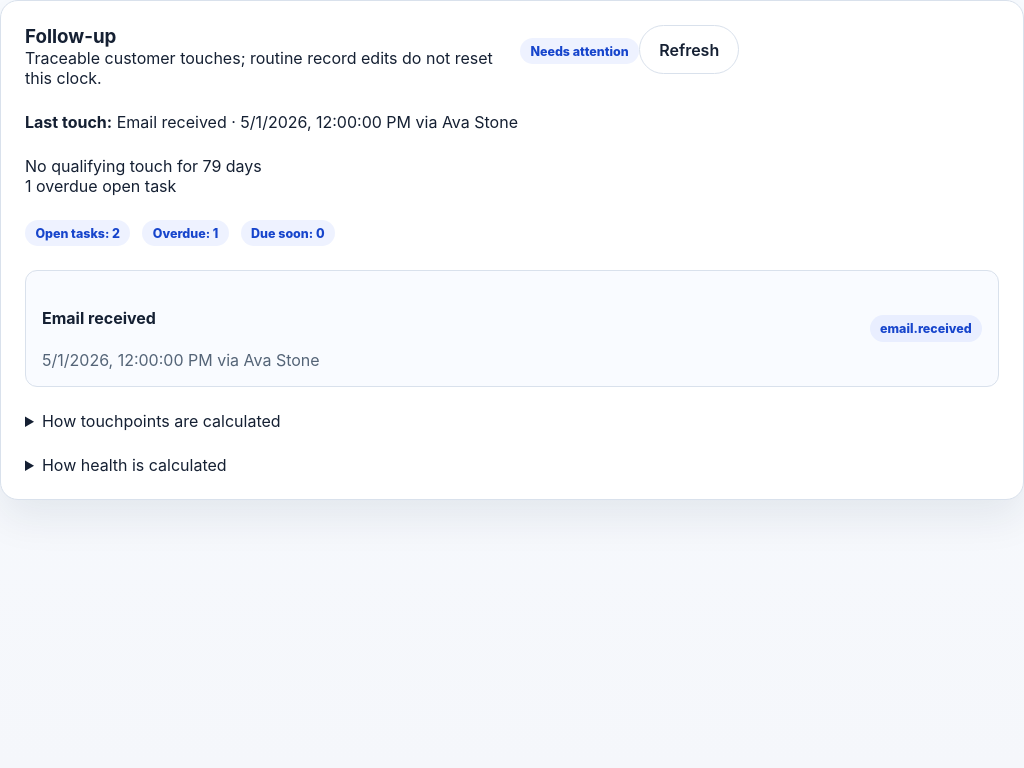
touchpoint summary › shows a traceable linked-contact touch and explains inference
Check: the text "Needs attention" is shown, box [520,38,639,64]
Check: the text "1 overdue open task" is shown, box [25,176,176,196]
Click the heading "How touchpoints are calculated" at (161, 421), box [42,411,281,431]
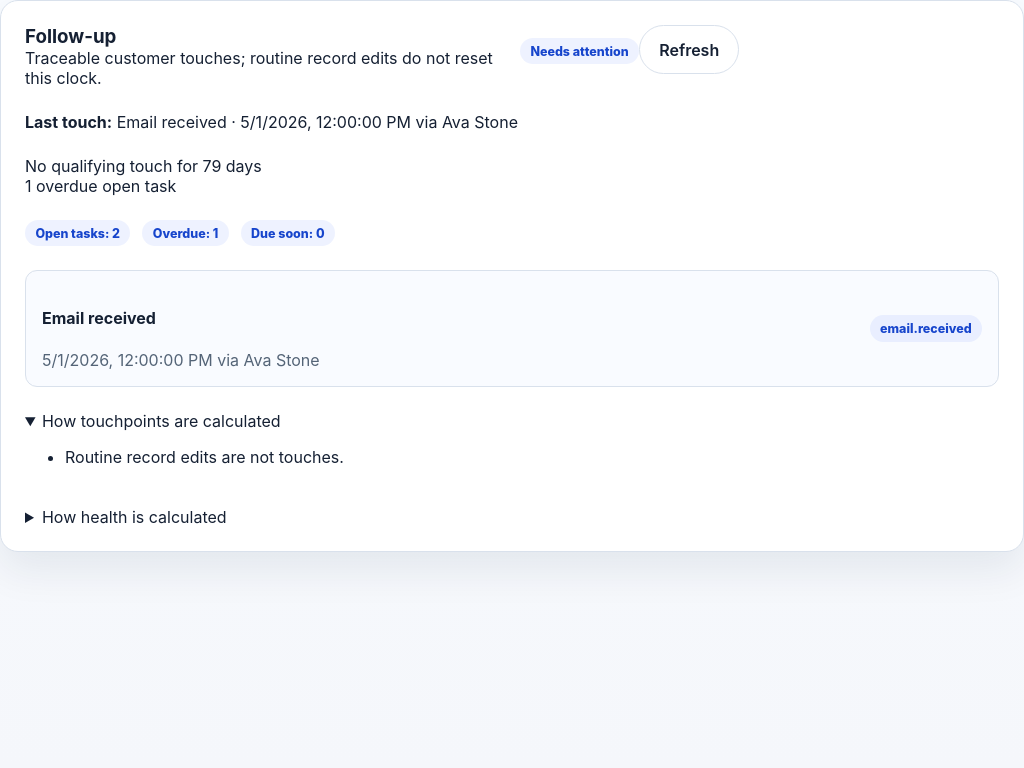
Check: the list item "Routine record edits are not touches." is shown, box [65,447,344,467]
Click the heading "How health is calculated" at (134, 517), box [42,507,227,527]
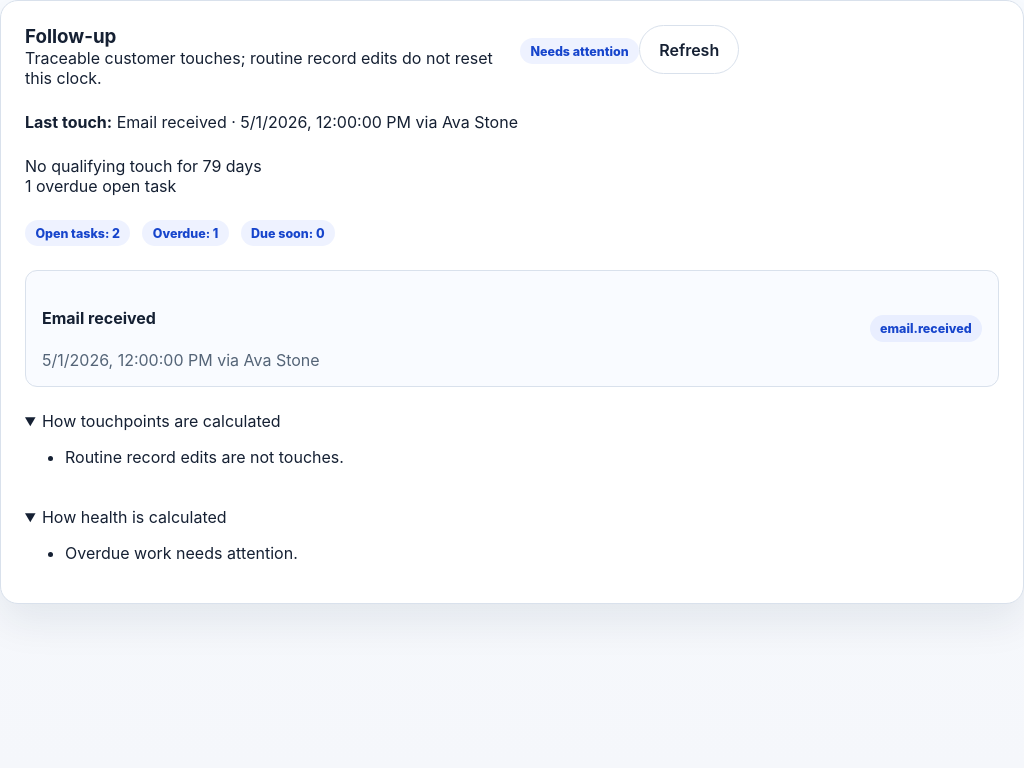
Check: the list item "Overdue work needs attention." is shown, box [65,543,298,563]
